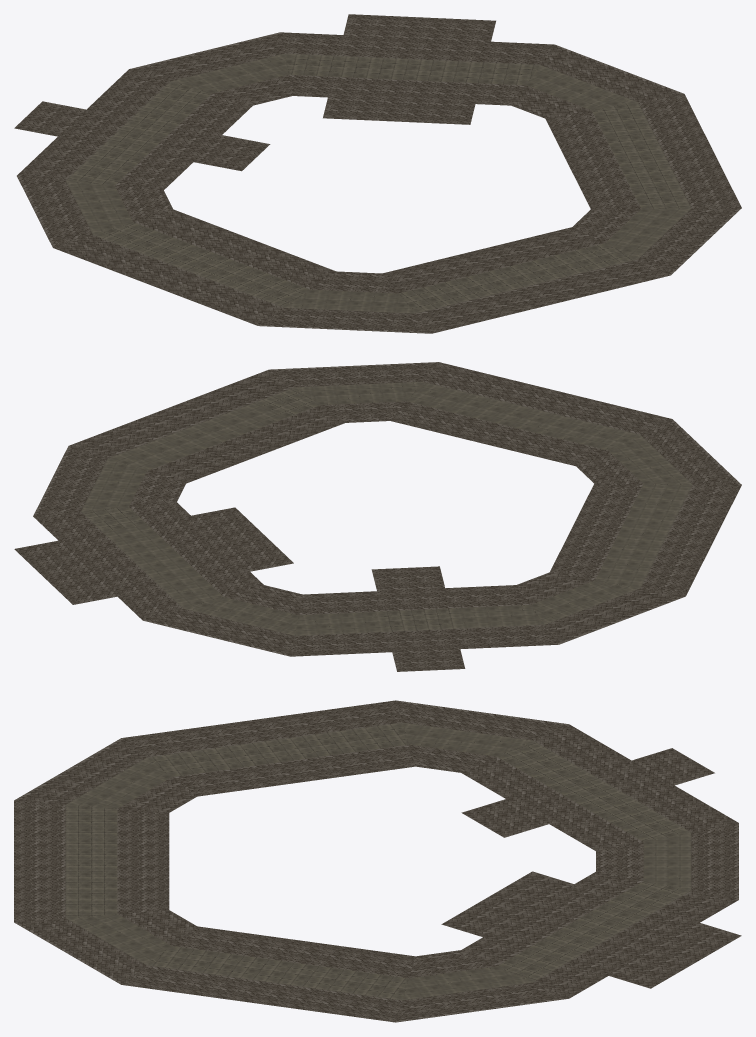
Rendered from Time limit_Ground_01.FBX.
3 views of the same model, one above another, from view 1: azimuth 30°, elevation 25°; view 2: azimuth 150°, elevation 25°; view 3: azimuth 270°, elevation 25° (orthographic). The views are drawn at different scales.
Visible parts, largest first — view 1: Time limit_Ground_01_01, Time limit_Ground_01_02; view 2: Time limit_Ground_01_01, Time limit_Ground_01_02; view 3: Time limit_Ground_01_01, Time limit_Ground_01_02.
Part boxes in pixels (bbox=[...]): Time limit_Ground_01_01: bbox=[14, 14, 741, 333]; Time limit_Ground_01_02: bbox=[66, 53, 691, 313]; Time limit_Ground_01_01: bbox=[14, 362, 741, 671]; Time limit_Ground_01_02: bbox=[81, 381, 692, 635]; Time limit_Ground_01_01: bbox=[14, 700, 741, 1022]; Time limit_Ground_01_02: bbox=[65, 722, 691, 1000].
Bounding box in the file's own units: 150 × 4.05e-14 × 143.
